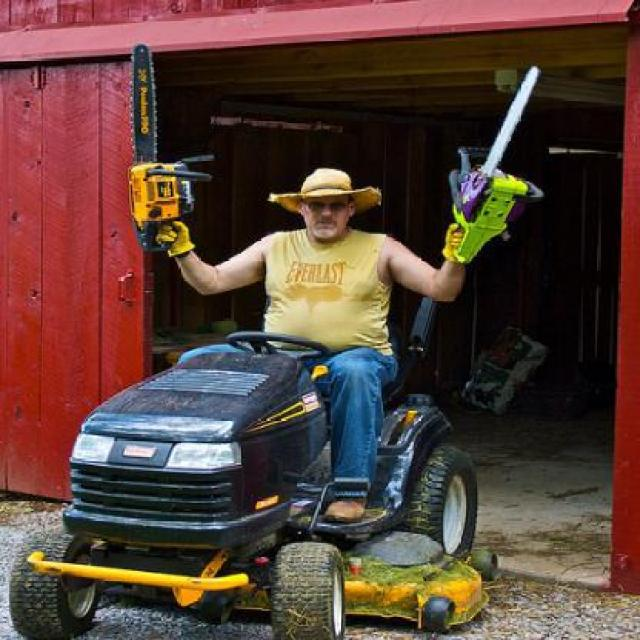Chainsaw: (437, 64, 549, 264), (129, 40, 214, 252)
